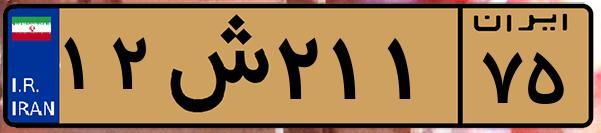1: (385, 28, 445, 110), (330, 28, 385, 110), (57, 26, 110, 100)
2: (270, 28, 330, 110), (110, 28, 158, 98)
5: (525, 38, 570, 115)
7: (475, 38, 525, 113)
ش: (158, 12, 270, 120)
